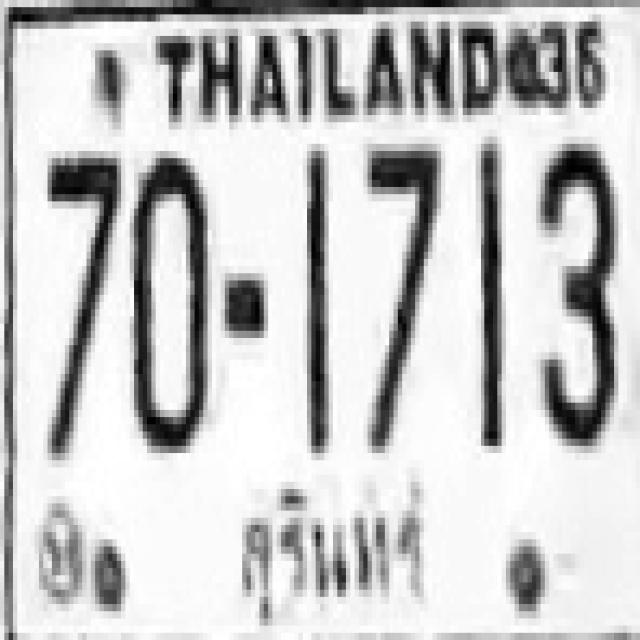0: (130, 151, 203, 446)
1: (476, 140, 502, 450), (302, 148, 328, 450), (303, 148, 324, 450)
3: (536, 140, 614, 442)
7: (43, 151, 117, 453), (363, 144, 437, 446), (363, 140, 437, 363)
Surin: (227, 464, 438, 638)
